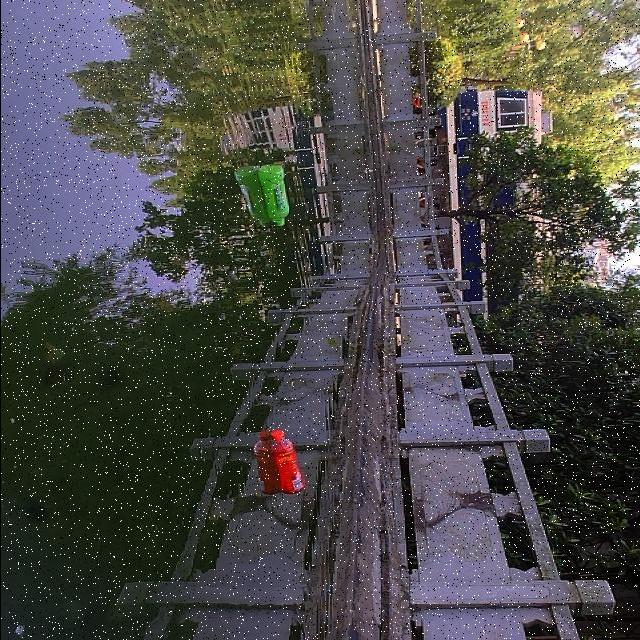Bottle: (262, 424, 313, 499), (252, 160, 294, 234)
